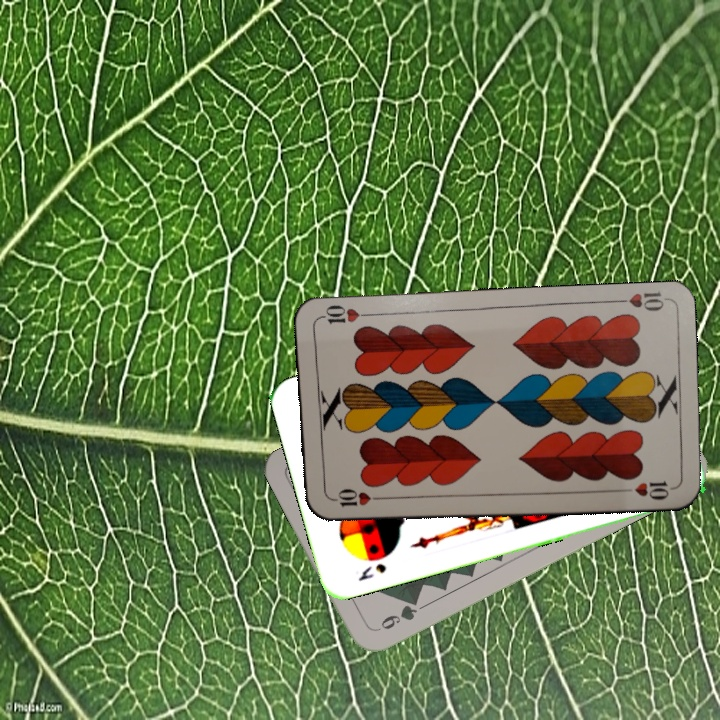G9: (372, 594, 422, 635)
H10: (609, 289, 668, 314), (327, 487, 386, 509)
SK: (354, 559, 389, 584)
